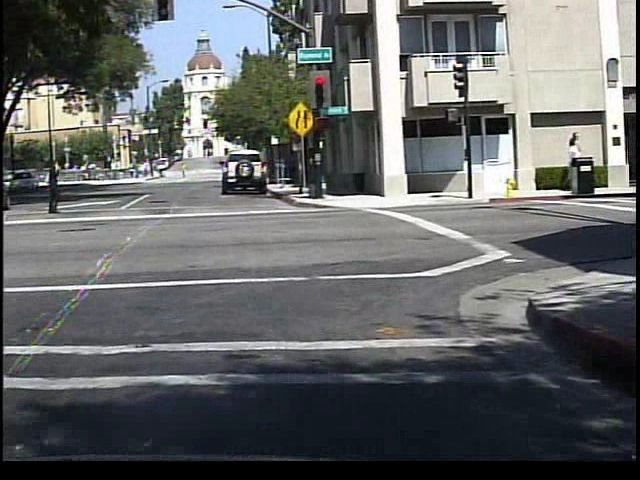person: (36, 155, 68, 217), (2, 167, 30, 230), (176, 160, 187, 180), (153, 165, 164, 181)
